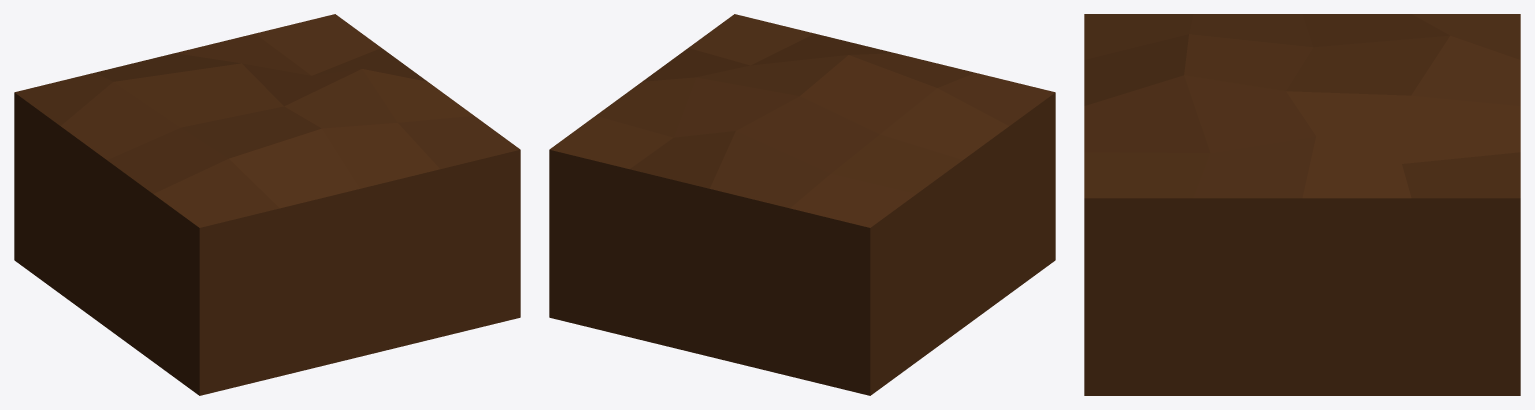
File: S_FarmBlock_5.fbx
The picture shows the model from 3 angles, left to right: view 1: azimuth 30°, elevation 25°; view 2: azimuth 150°, elevation 25°; view 3: azimuth 270°, elevation 25°; orthographic projection. The views are drawn at different scales.
Visible parts, largest first — view 1: FarmBlock_square_v3; view 2: FarmBlock_square_v3; view 3: FarmBlock_square_v3.
Part boxes in pixels (<box>): FarmBlock_square_v3: <box>14,14,520,395</box>; FarmBlock_square_v3: <box>549,14,1055,395</box>; FarmBlock_square_v3: <box>1084,14,1520,395</box>.
Size of the model in its own units: 400 by 234 by 400.
